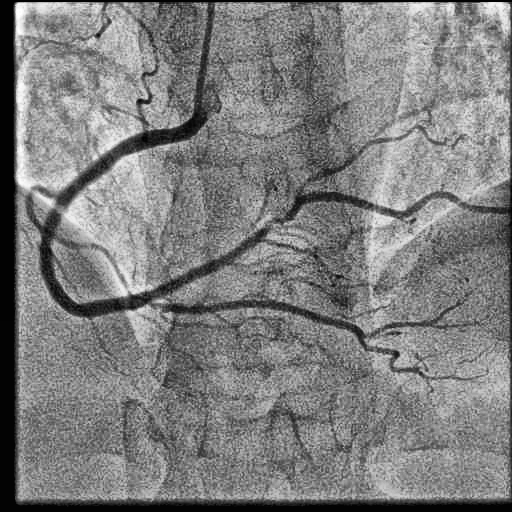pborca: (146, 191, 511, 299)
pda: (150, 300, 420, 373)
rca: (39, 121, 195, 317)
